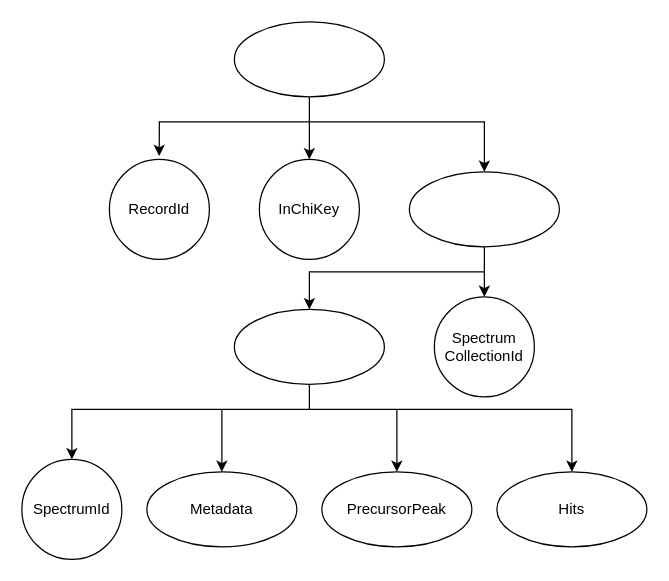
Image size: 669x581. Some labels were removed from this diagram. Here are the shapes that lost their labels. From the top down, the centre of each, then its label:
the point at 308,59: Records
the point at 483,209: SpectrumCollections
the point at 308,346: Spectra
